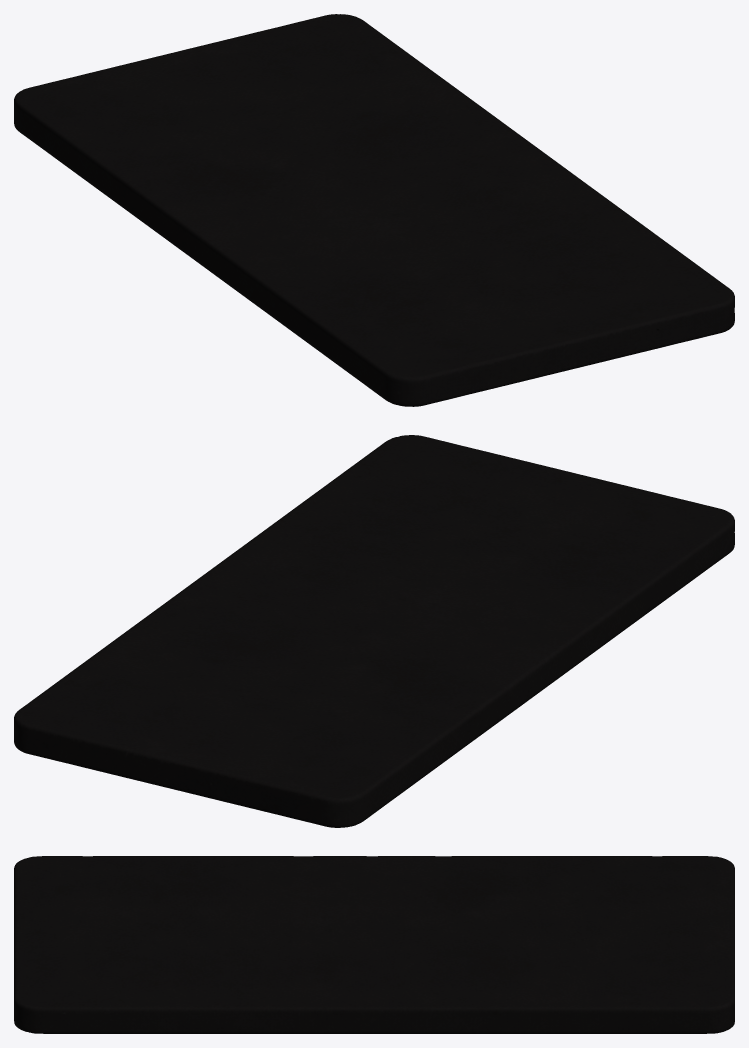
File: yoga_roll_rolledout.glb
3 views of the same model, one above another, from view 1: azimuth 30°, elevation 25°; view 2: azimuth 150°, elevation 25°; view 3: azimuth 270°, elevation 25° (orthographic). The views are drawn at different scales.
Visible parts, largest first — view 1: world; view 2: world; view 3: world.
Part boxes in pixels (x1,y1,x2,y2): world: (14, 14, 734, 406); world: (14, 435, 734, 827); world: (14, 856, 734, 1033).
Bounding box in the file's own units: 0.5037 × 0.0406 × 1.
Materials: 1 (1 with a texture image).
